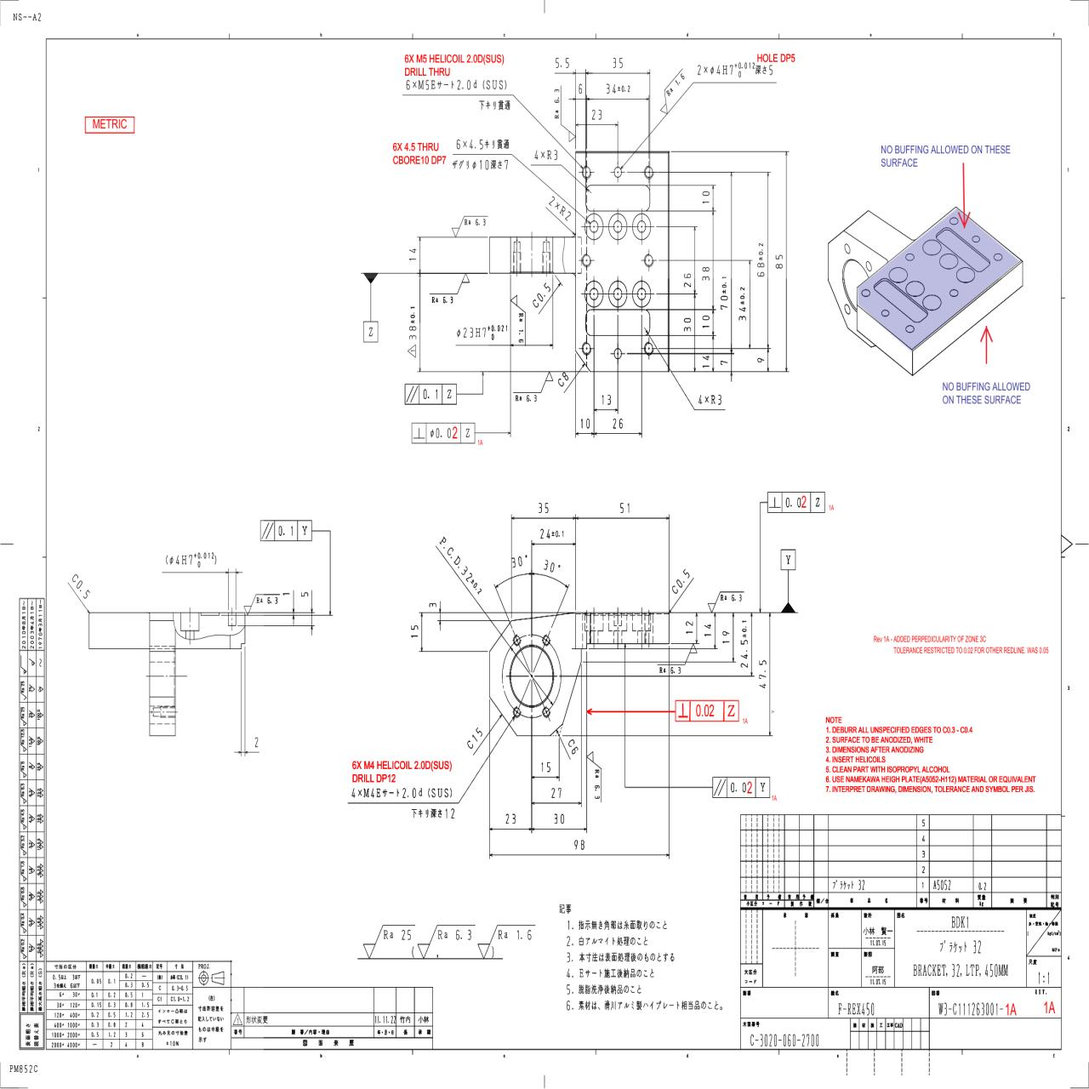basic_dimension: (460, 565, 483, 597), (741, 619, 749, 670), (455, 138, 484, 152), (605, 84, 631, 95), (409, 305, 417, 339), (757, 243, 765, 276), (720, 277, 728, 309), (540, 529, 565, 539), (759, 659, 767, 690), (739, 287, 746, 321), (555, 57, 570, 68), (612, 417, 624, 430), (601, 393, 612, 407), (612, 57, 624, 69), (505, 812, 516, 825), (685, 621, 694, 636), (554, 812, 565, 824), (541, 761, 552, 773), (722, 630, 731, 644), (580, 419, 591, 430), (574, 839, 585, 850), (551, 787, 562, 798), (592, 109, 602, 121), (775, 254, 783, 269), (620, 502, 630, 514), (410, 625, 419, 638), (704, 624, 713, 637), (702, 190, 710, 204), (538, 503, 549, 513), (408, 248, 416, 261), (684, 273, 691, 287), (702, 267, 709, 281), (702, 355, 709, 368), (684, 318, 691, 331), (703, 315, 710, 328), (578, 83, 583, 96), (429, 602, 437, 608), (757, 358, 765, 363), (720, 361, 728, 365)
datum_symbol: (363, 273, 379, 343), (780, 548, 796, 613)
dimension_chamfer_symbol: (465, 737, 476, 752), (70, 571, 81, 585), (670, 583, 681, 597), (556, 375, 566, 390), (566, 737, 577, 750), (531, 297, 541, 311)
dimension_degree_symbol: (543, 558, 561, 575), (512, 554, 528, 569)
dimension_diameter_symbol: (710, 60, 755, 84), (455, 325, 509, 342), (472, 158, 489, 171), (169, 555, 174, 566), (430, 429, 434, 439)
dimension_metric_symbol: (418, 79, 425, 91), (363, 787, 370, 798)
dimension_radius_symbol: (558, 203, 568, 218), (547, 150, 553, 163), (711, 394, 716, 405)
gdt_frame_symbol: (674, 699, 740, 722), (766, 490, 826, 515), (411, 422, 476, 445), (259, 518, 313, 544), (712, 776, 770, 799), (404, 383, 458, 407)
gdt_parallelism_symbol: (713, 778, 726, 797), (406, 385, 419, 403), (261, 522, 274, 540)
gdt_perpendicularity_symbol: (678, 703, 688, 718), (413, 428, 425, 439), (769, 497, 781, 508)
revision_triangle_symbol: (407, 344, 416, 358)
surface_finish_symbol: (417, 925, 476, 960), (477, 925, 536, 960), (362, 924, 416, 960), (659, 67, 683, 115), (657, 643, 698, 666), (560, 85, 576, 142), (429, 272, 470, 294), (513, 371, 554, 393), (707, 591, 744, 614), (243, 593, 280, 616), (586, 750, 602, 803), (510, 294, 526, 346), (451, 216, 488, 238)
